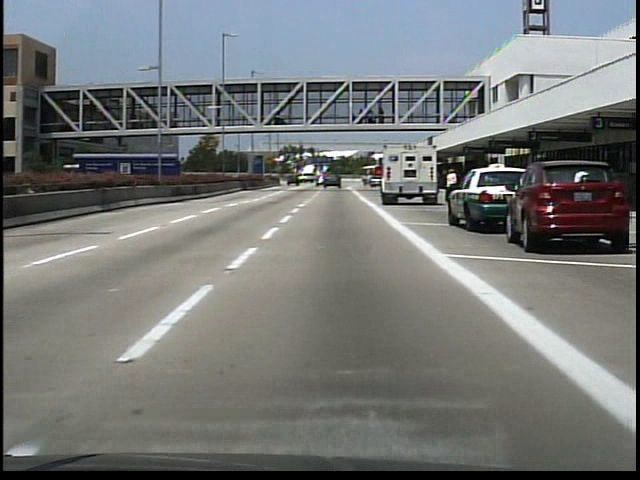person: (444, 168, 460, 209)
